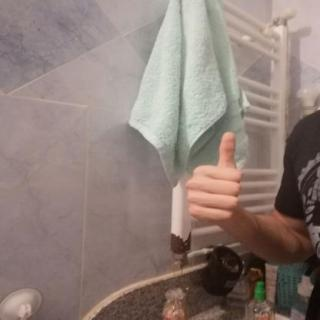ALIF: (177, 125, 256, 232)
